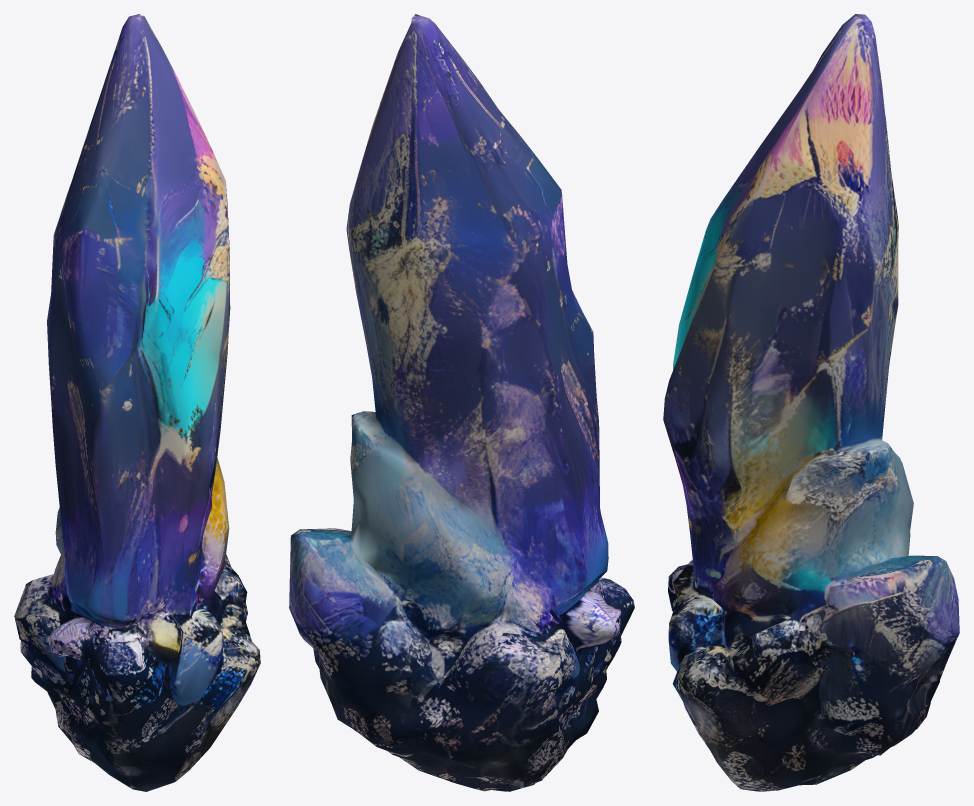
File: crystal 3d model.glb
The picture shows the model from 3 angles, left to right: view 1: azimuth 30°, elevation 25°; view 2: azimuth 150°, elevation 25°; view 3: azimuth 270°, elevation 25°; orthographic projection. The views are drawn at different scales.
Visible parts, largest first — view 1: tripo_node_2e42efa4-e7c8-4e46-b17d-0c70cf7c23e2; view 2: tripo_node_2e42efa4-e7c8-4e46-b17d-0c70cf7c23e2; view 3: tripo_node_2e42efa4-e7c8-4e46-b17d-0c70cf7c23e2.
Boxes of the visible parts, x1,y1,x2,y2 form: tripo_node_2e42efa4-e7c8-4e46-b17d-0c70cf7c23e2: (14, 14, 260, 791); tripo_node_2e42efa4-e7c8-4e46-b17d-0c70cf7c23e2: (289, 14, 634, 791); tripo_node_2e42efa4-e7c8-4e46-b17d-0c70cf7c23e2: (663, 14, 959, 791).
Size of the model in its own units: 0.3238 by 1 by 0.3385.
1 material, 1 textured.
